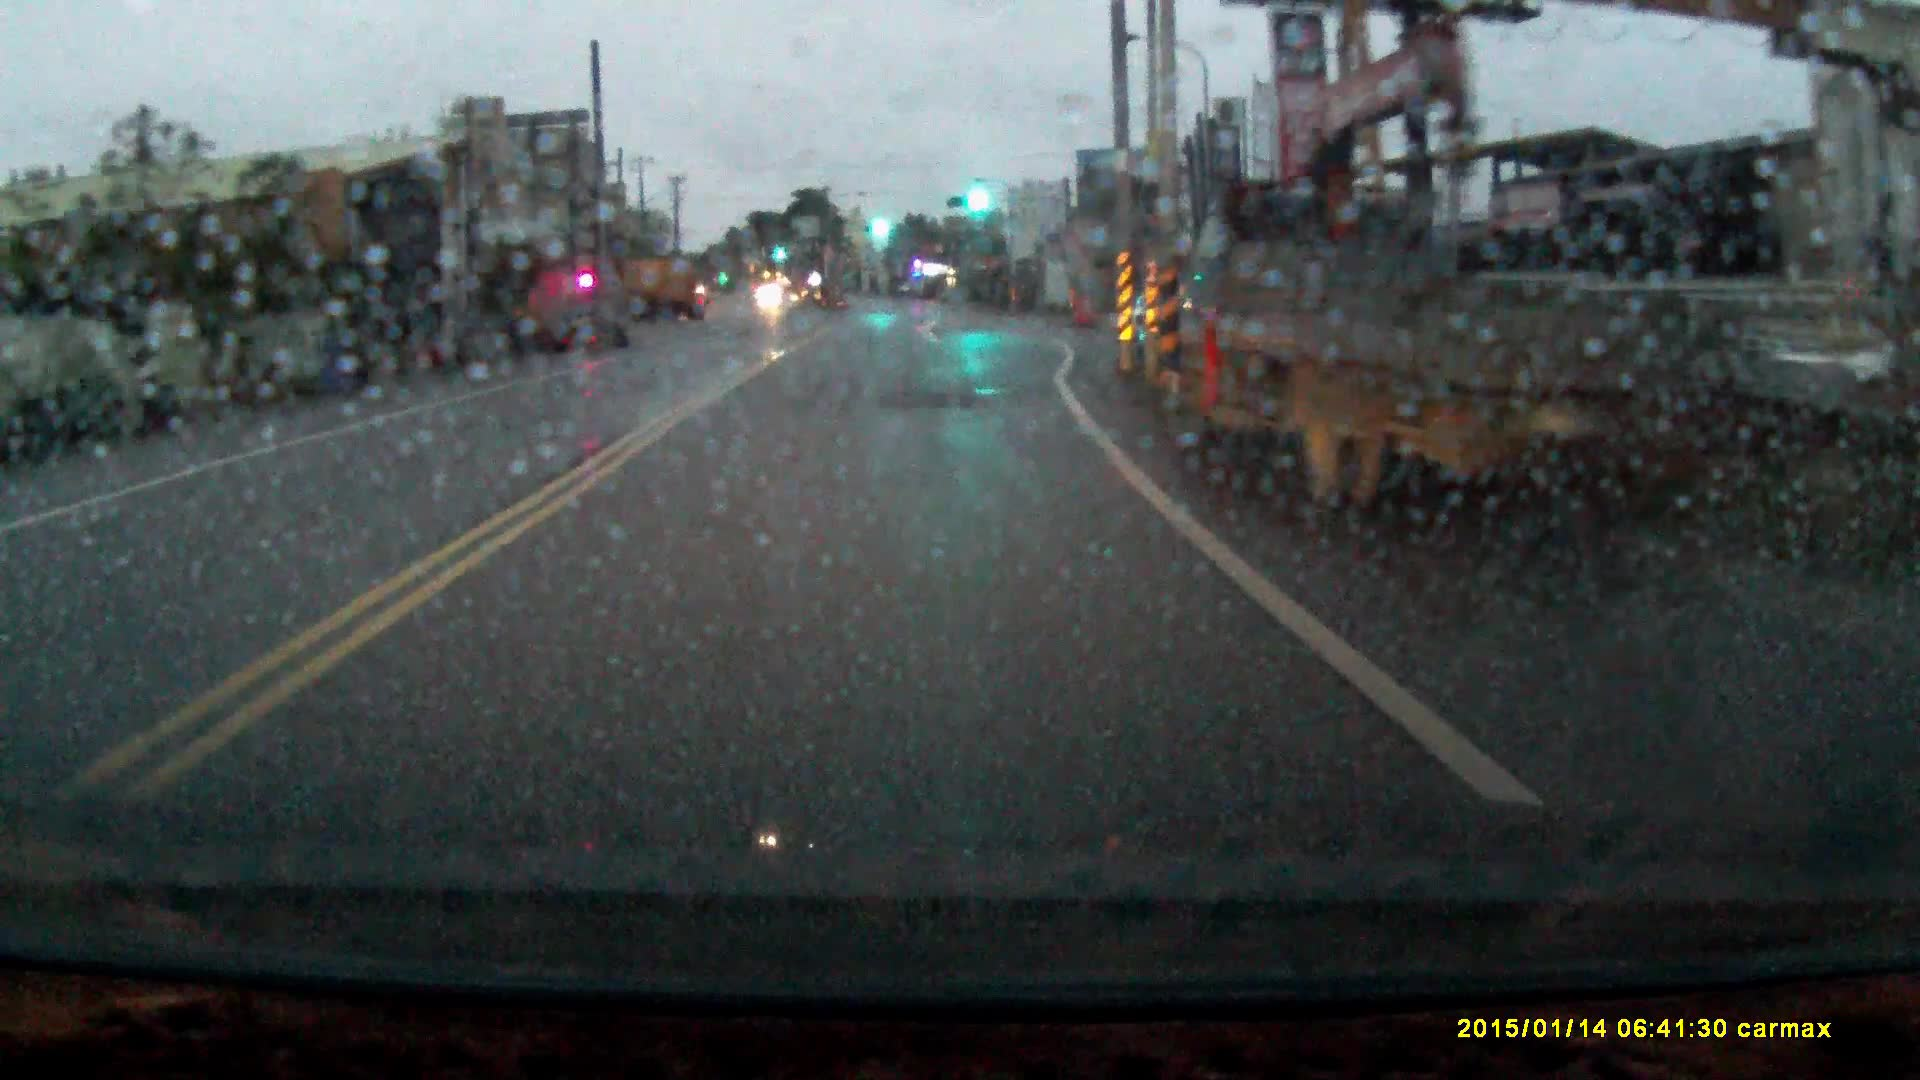vehicle: (1163, 202, 1764, 554), (603, 256, 700, 327), (555, 305, 628, 355)
